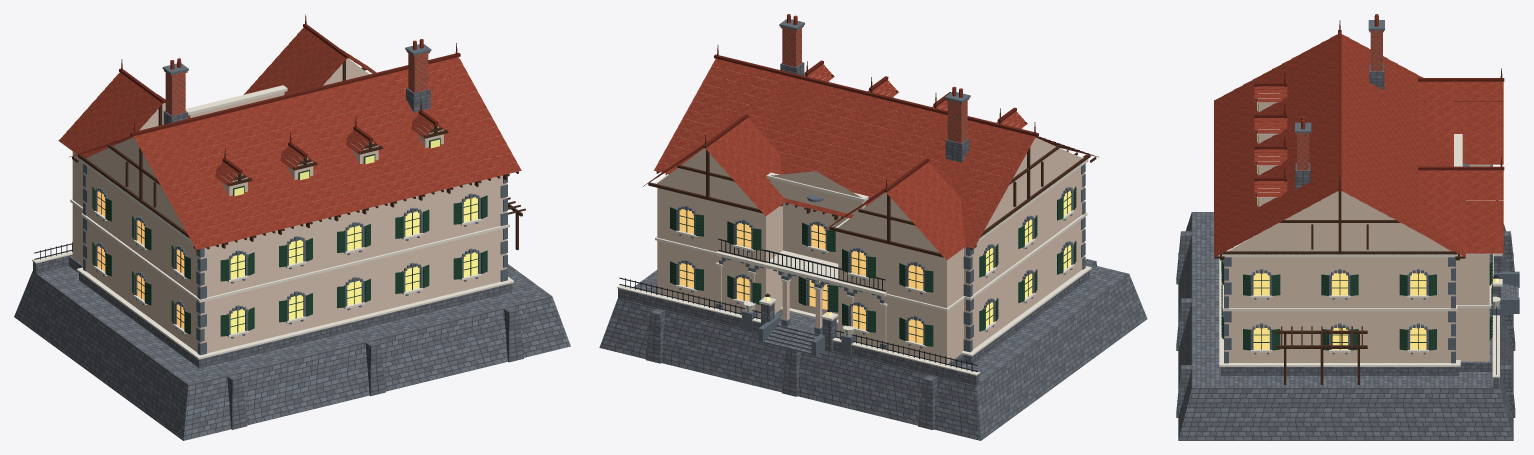
The model's file is fv_bt_06_bao_tang_lam_dong_main_exhibition_hall.glb.
The picture shows the model from 3 angles, left to right: view 1: azimuth 30°, elevation 25°; view 2: azimuth 150°, elevation 25°; view 3: azimuth 270°, elevation 25°; orthographic projection.
Parts seen in each view (by area): view 1: Normandy_Brittany_Layered_Roof, Foundation_Skirt_Neg3p5m, Villa_Stucco_Walls, Molded_Cornices_And_Sills, PineGreen_Louvered_Shutters, Stone_Quoins_And_Arches, Warm_Night_Windows_20h00_Blend, Exposed_Timber_Trusses_And_Rafters, Roof_Ridges_Caps_And_Finials, Brick_Chimney_Stacks; view 2: Foundation_Skirt_Neg3p5m, Villa_Stucco_Walls, Normandy_Brittany_Layered_Roof, Molded_Cornices_And_Sills, Stone_Quoins_And_Arches, PineGreen_Louvered_Shutters, Warm_Night_Windows_20h00_Blend, Exposed_Timber_Trusses_And_Rafters, Roof_Ridges_Caps_And_Finials, Wrought_Iron_Balustrades_And_Gate, Brick_Chimney_Stacks; view 3: Normandy_Brittany_Layered_Roof, Foundation_Skirt_Neg3p5m, Villa_Stucco_Walls, Molded_Cornices_And_Sills, Stone_Quoins_And_Arches, Exposed_Timber_Trusses_And_Rafters, PineGreen_Louvered_Shutters, Roof_Ridges_Caps_And_Finials, Warm_Night_Windows_20h00_Blend, Brick_Chimney_Stacks.
Boxes of the visible parts, left/top/right/bottom form: Normandy_Brittany_Layered_Roof: left=58, top=27, right=521, bottom=249; Foundation_Skirt_Neg3p5m: left=14, top=88, right=570, bottom=440; Villa_Stucco_Walls: left=72, top=58, right=506, bottom=353; Molded_Cornices_And_Sills: left=32, top=71, right=514, bottom=359; PineGreen_Louvered_Shutters: left=92, top=138, right=487, bottom=336; Stone_Quoins_And_Arches: left=83, top=44, right=507, bottom=355; Warm_Night_Windows_20h00_Blend: left=97, top=139, right=477, bottom=333; Exposed_Timber_Trusses_And_Rafters: left=72, top=60, right=525, bottom=251; Roof_Ridges_Caps_And_Finials: left=69, top=14, right=460, bottom=180; Brick_Chimney_Stacks: left=164, top=51, right=429, bottom=115; Foundation_Skirt_Neg3p5m: left=599, top=62, right=1147, bottom=440; Villa_Stucco_Walls: left=657, top=81, right=1084, bottom=363; Normandy_Brittany_Layered_Roof: left=644, top=14, right=1035, bottom=259; Molded_Cornices_And_Sills: left=617, top=74, right=1091, bottom=375; Stone_Quoins_And_Arches: left=676, top=19, right=1085, bottom=356; PineGreen_Louvered_Shutters: left=670, top=186, right=1076, bottom=346; Warm_Night_Windows_20h00_Blend: left=679, top=190, right=1071, bottom=344; Exposed_Timber_Trusses_And_Rafters: left=648, top=64, right=1096, bottom=257; Roof_Ridges_Caps_And_Finials: left=643, top=45, right=1098, bottom=230; Wrought_Iron_Balustrades_And_Gate: left=619, top=238, right=977, bottom=371; Brick_Chimney_Stacks: left=780, top=25, right=969, bottom=143; Normandy_Brittany_Layered_Roof: left=1214, top=14, right=1503, bottom=257; Foundation_Skirt_Neg3p5m: left=1176, top=64, right=1518, bottom=440; Villa_Stucco_Walls: left=1224, top=103, right=1489, bottom=362; Molded_Cornices_And_Sills: left=1219, top=93, right=1502, bottom=377; Stone_Quoins_And_Arches: left=1222, top=20, right=1519, bottom=363; Exposed_Timber_Trusses_And_Rafters: left=1214, top=86, right=1497, bottom=384; PineGreen_Louvered_Shutters: left=1221, top=103, right=1492, bottom=350; Roof_Ridges_Caps_And_Finials: left=1254, top=20, right=1504, bottom=190; Warm_Night_Windows_20h00_Blend: left=1253, top=102, right=1498, bottom=349; Brick_Chimney_Stacks: left=1295, top=30, right=1383, bottom=170.
Bounding box in the file's own units: 30.12 × 20.8 × 22.93.
Materials: 12 (3 with a texture image).
